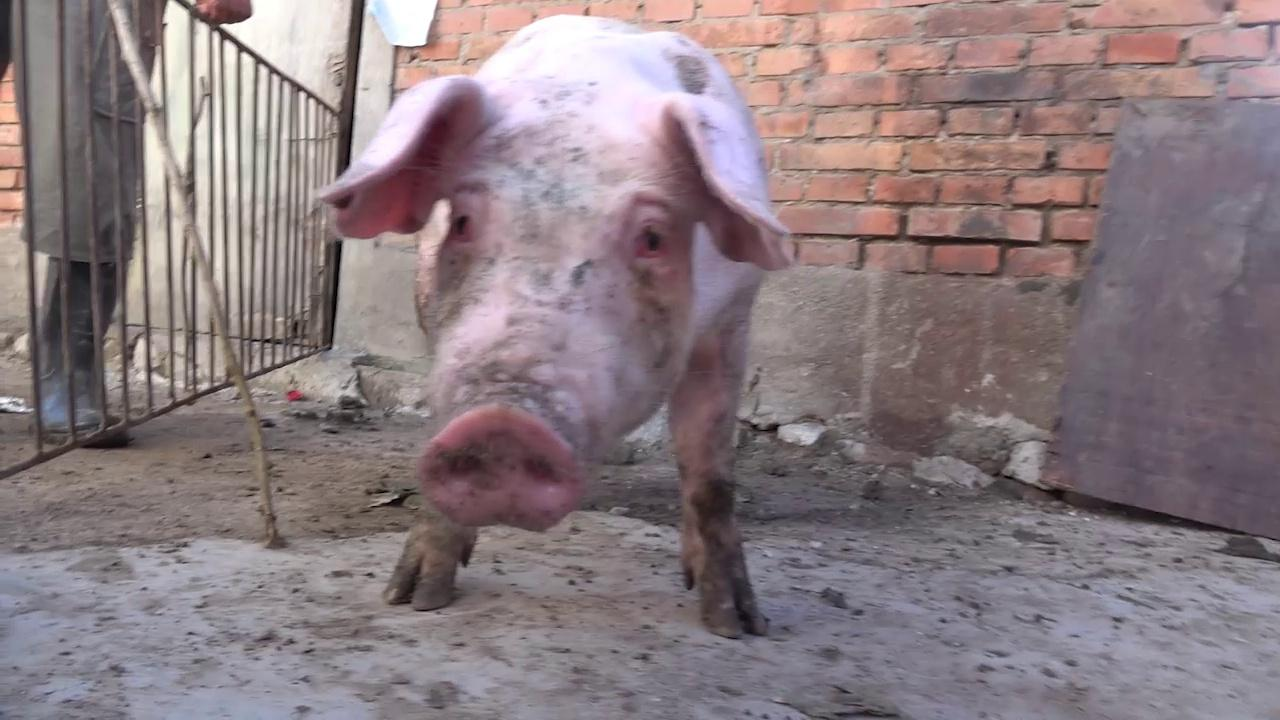Face: (310, 69, 798, 536)
